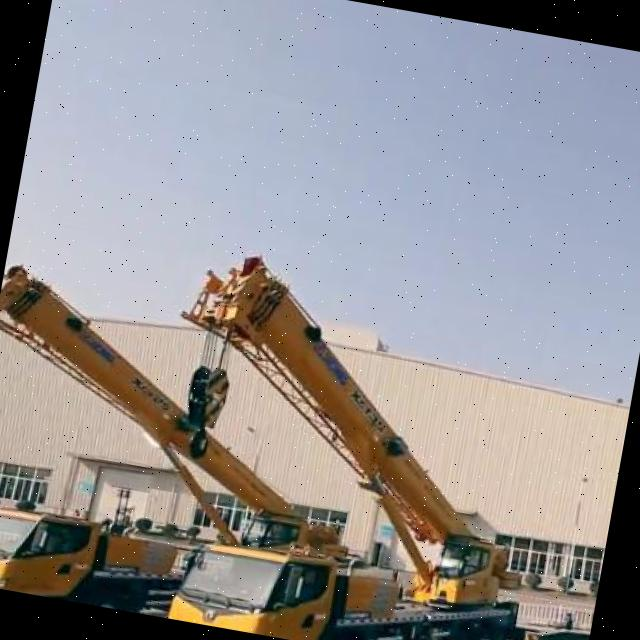Mobile Crane: (136, 251, 564, 640), (0, 258, 332, 637)
